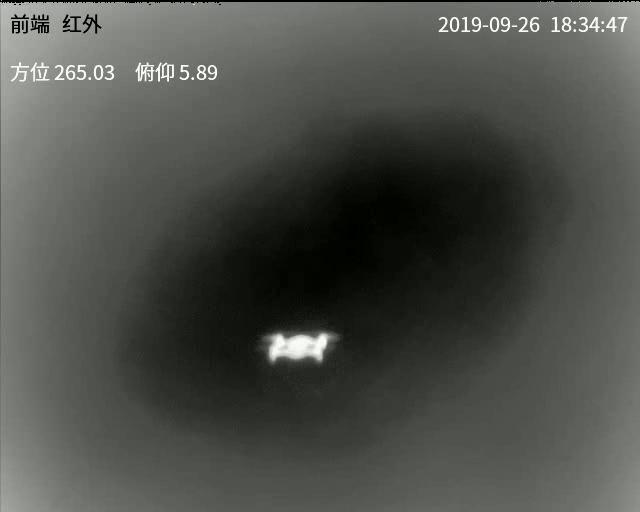DRONE: (261, 330, 335, 366)
